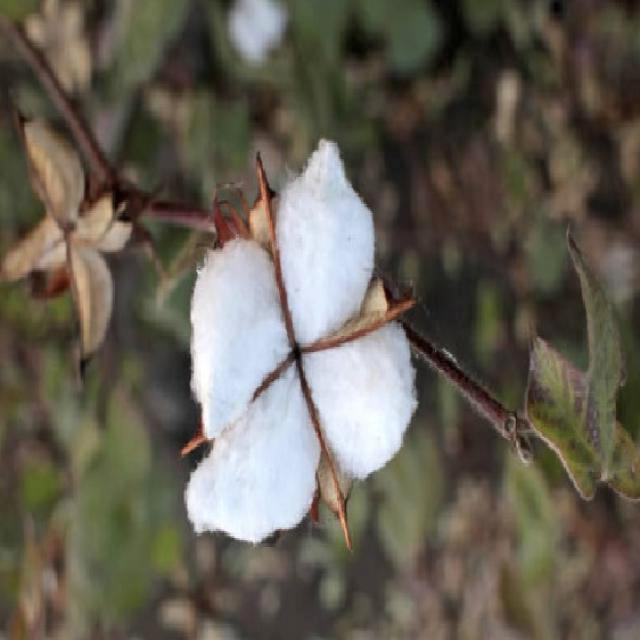Matured Cotton Boll: (172, 177, 428, 544)
